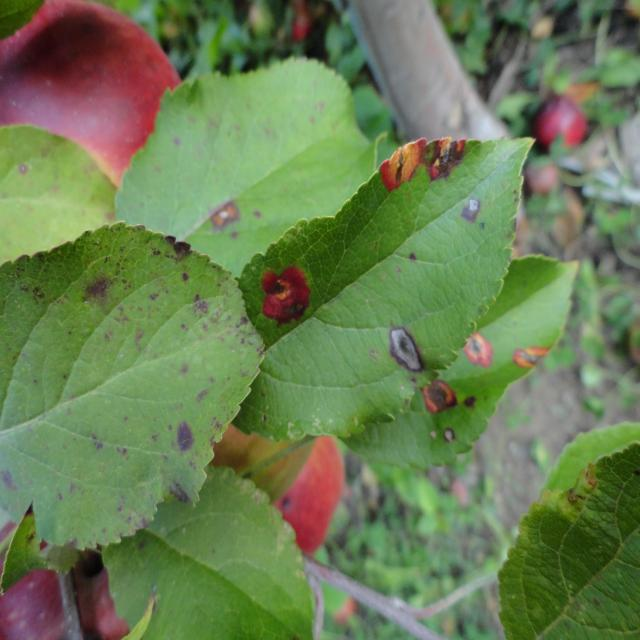Rust: (385, 126, 466, 195), (243, 261, 314, 326), (459, 329, 499, 379), (507, 335, 551, 379), (416, 376, 458, 420)
